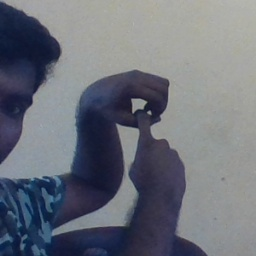Q: (86, 65, 192, 183)
